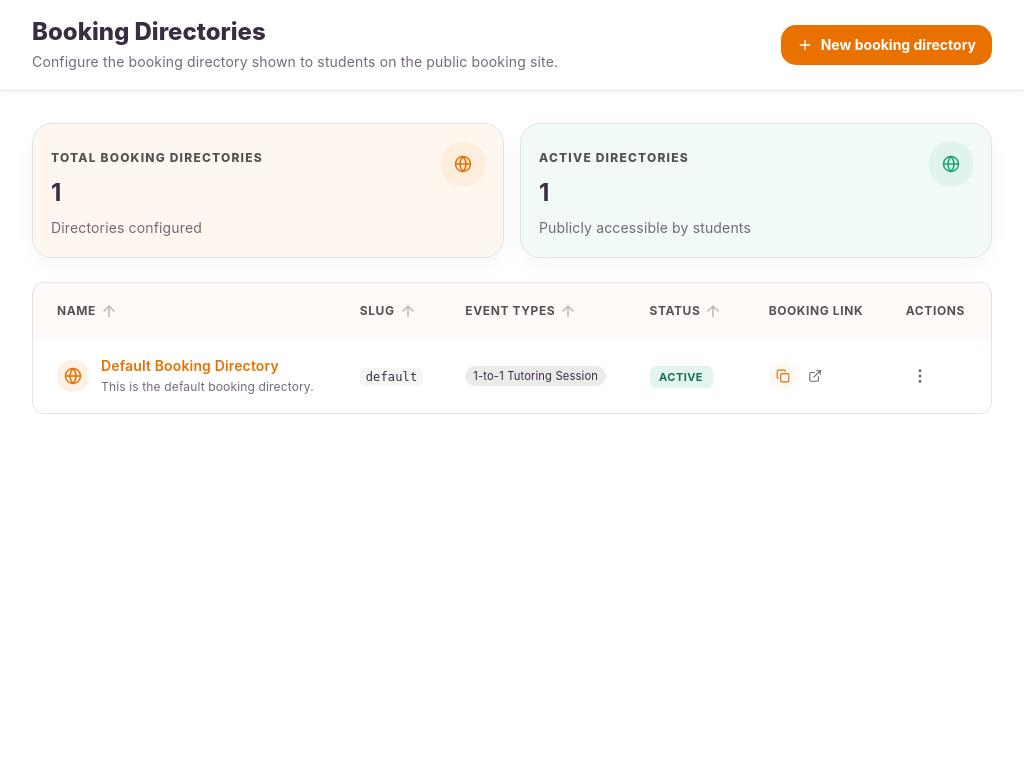
Test: Booking Directories Admin Config integration › successfully saves dirty changes and closes the modal without prompts
Expected: the text "Default Booking Directory" is shown, [101,357,279,374]
Step 1. Click the button named "more" → [920, 376], box [906,362,934,390]
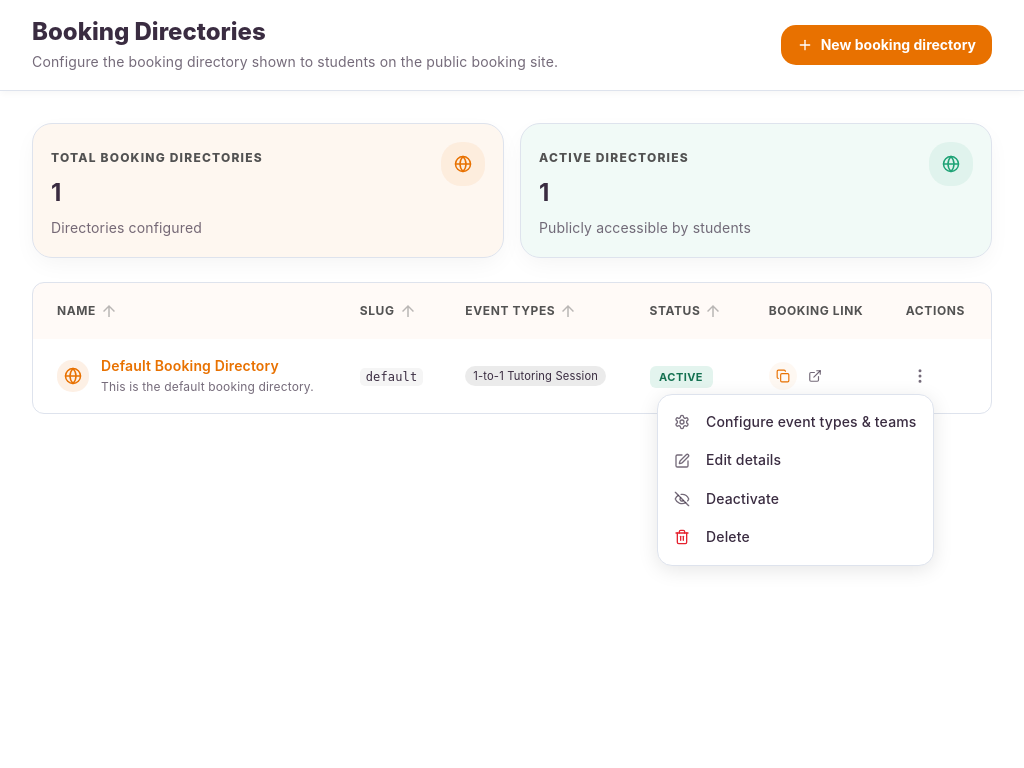
Step 2. Click the menu item "Configure event types & teams" → [795, 422], box [674,413,916,430]
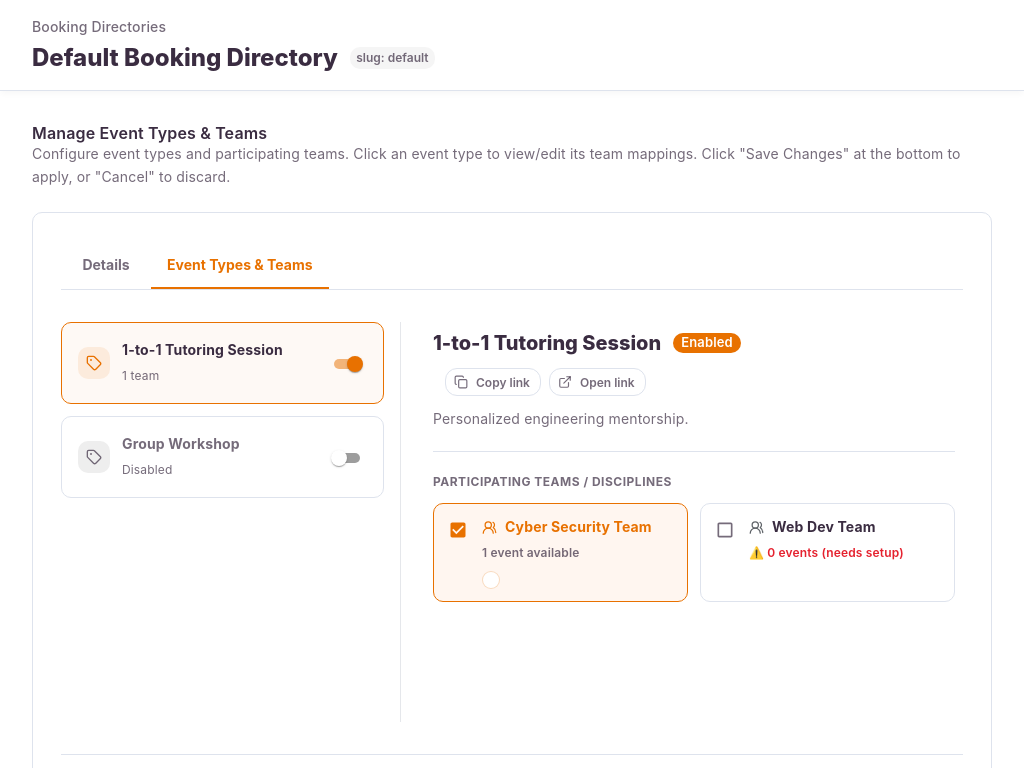
Expected: the heading "Manage Event Types & Teams" is shown, [32,123,267,143]
Expected: the text "Group Workshop" is shown, [122,433,240,456]
Step 3. Click the 2nd switch → [339, 458], box [331,450,347,466]
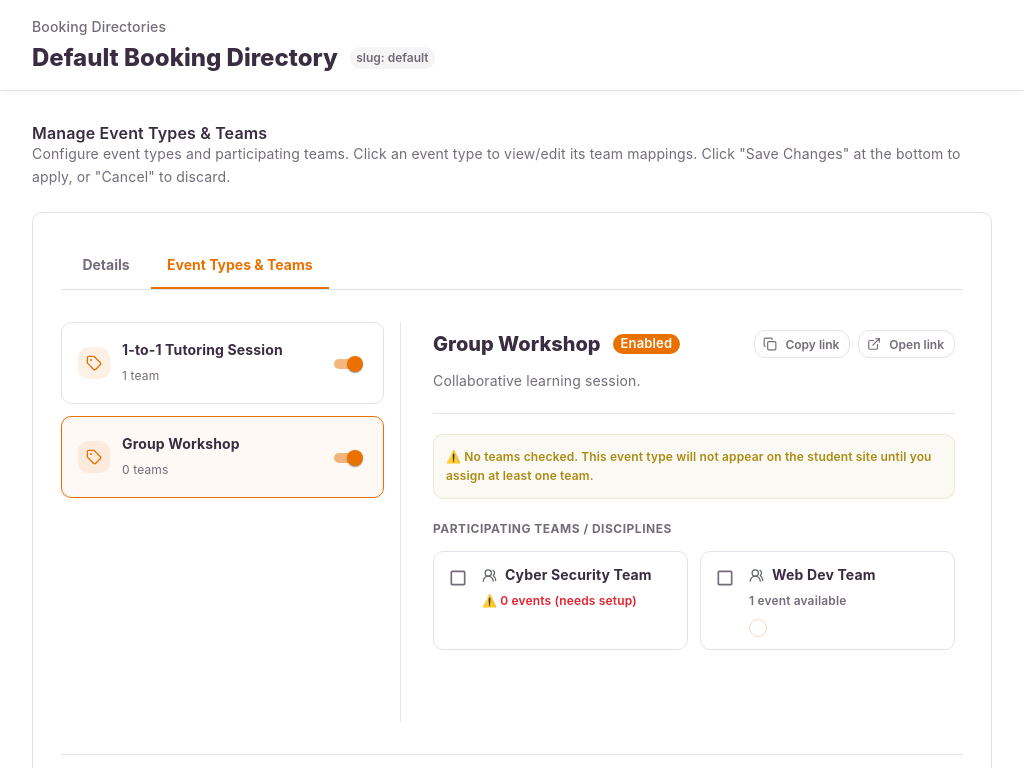
Expected: the text "Participating Teams / Disciplines" is shown, [433,521,672,536]
Step 4. Click the text "1-to-1 Tutoring Session" → [222, 363], box [61,322,384,404]
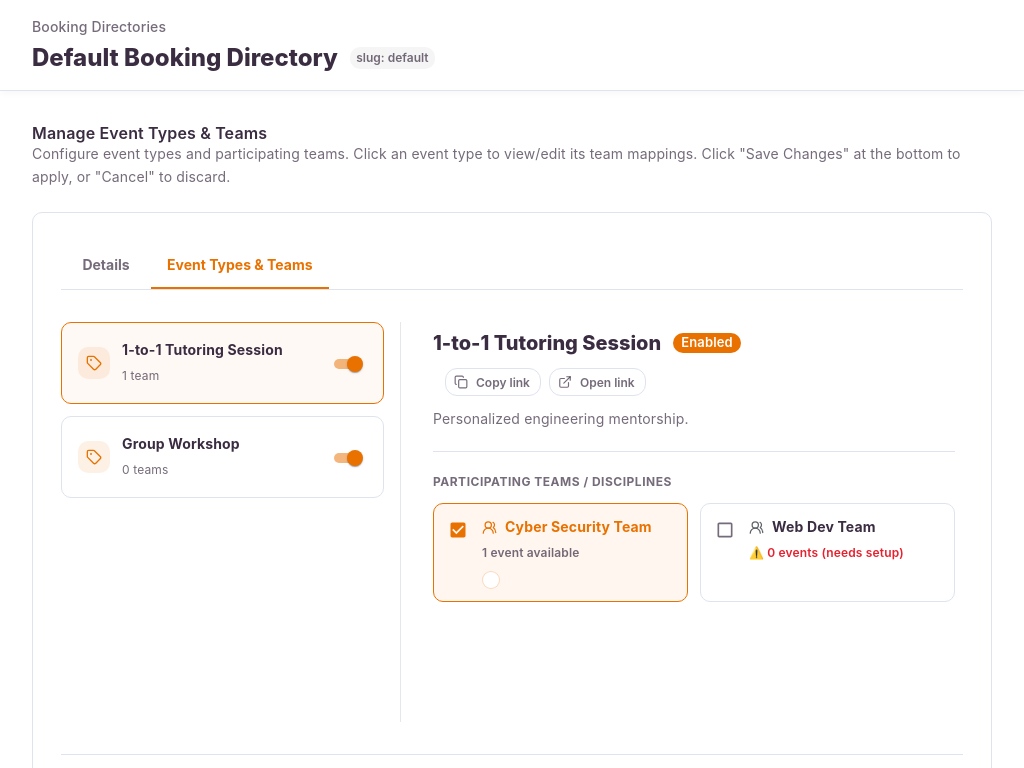
Expected: the text "Web Dev Team" is shown, [772,518,876,536]
Step 5. Click the text "Web Dev Team" → [828, 553], box [700,504,955,602]
(page scrolled)
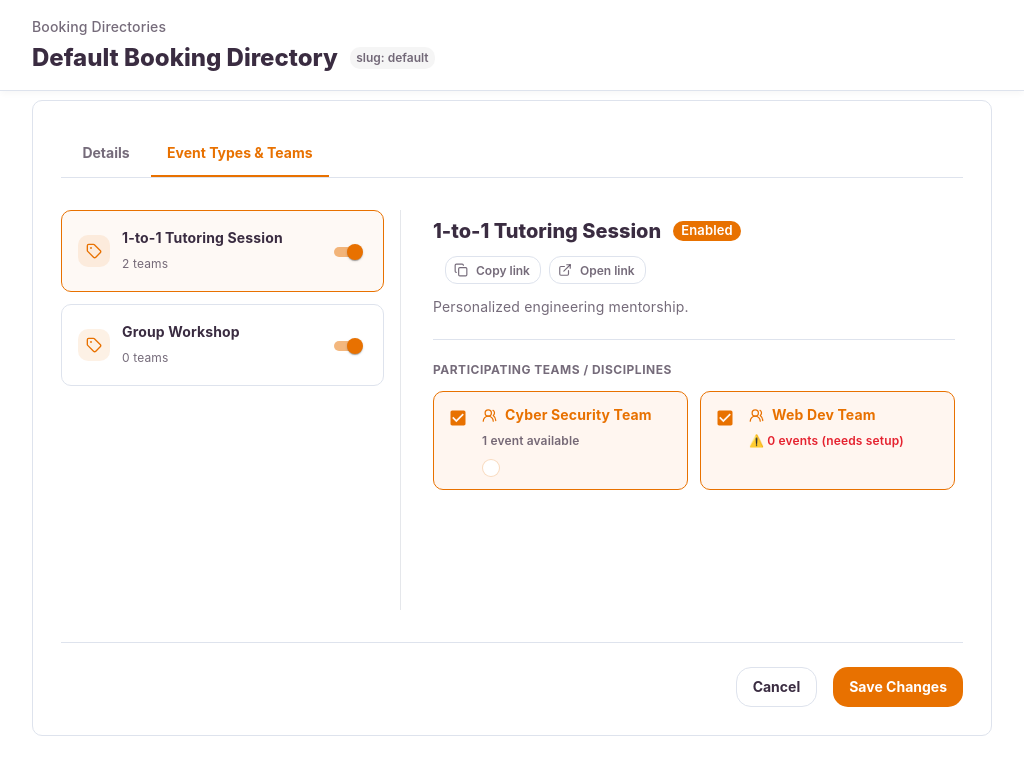
Note: Click Save Changes to submit form
Step 6. Click the button "Save Changes" → [898, 687], box [833,667,963,707]
(page scrolled)
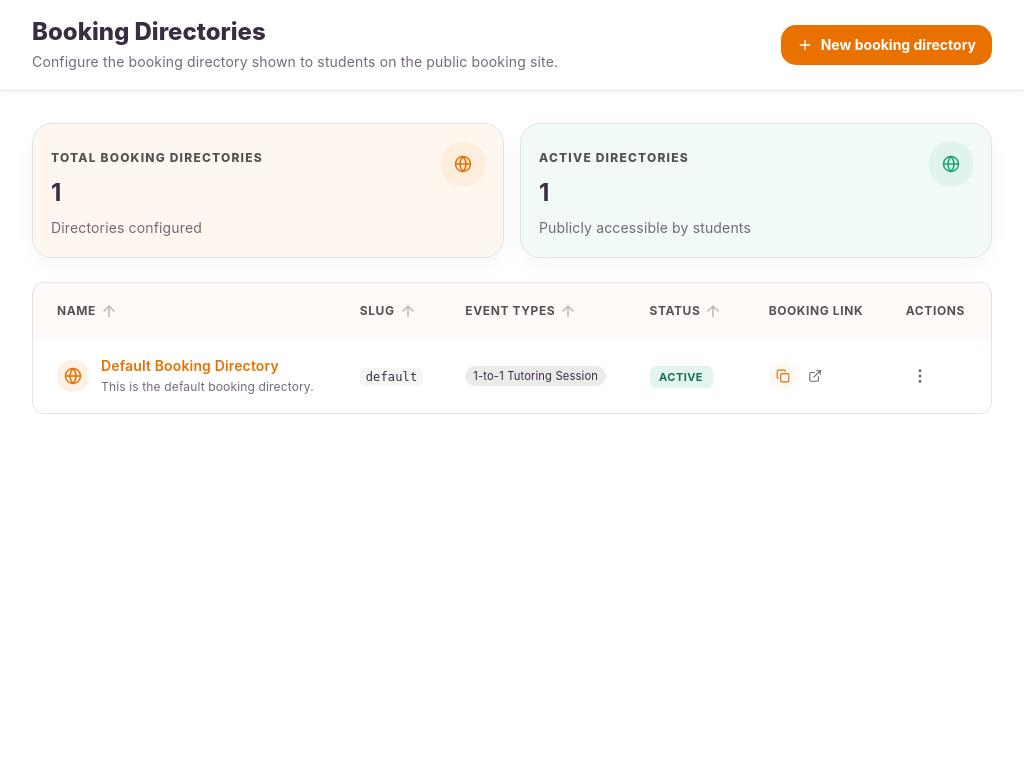
Expected: the heading "Manage Event Types & Teams" is gone
